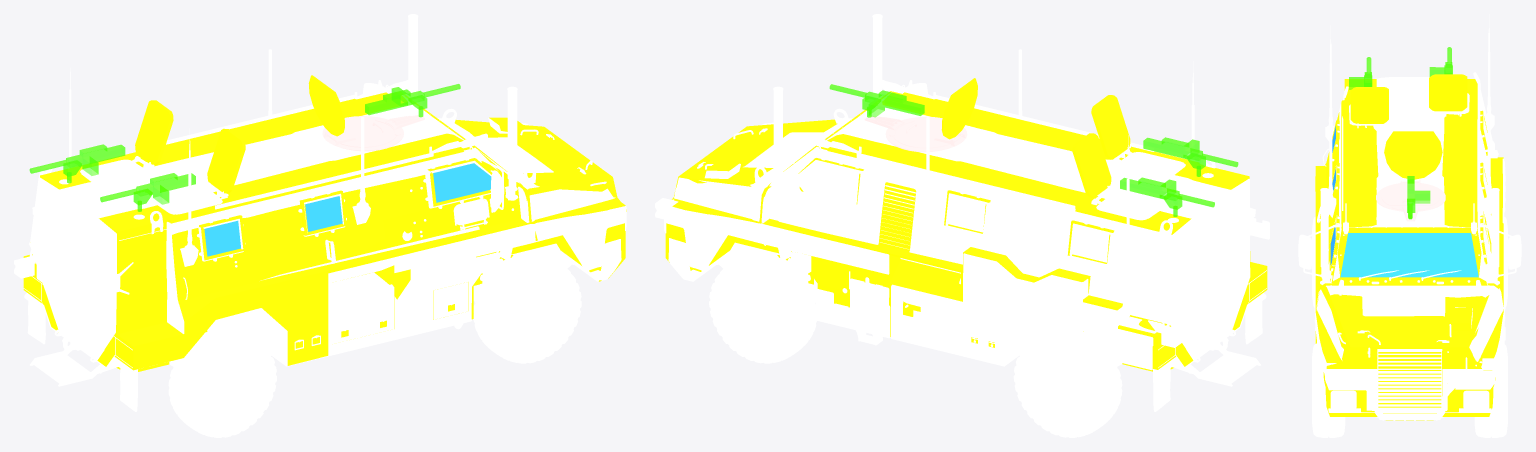
File: PMV.gltf
3 renders of one model, left to right at view 1: azimuth 30°, elevation 25°; view 2: azimuth 150°, elevation 25°; view 3: azimuth 270°, elevation 25°, orthographic. The views are drawn at different scales.
Visible parts, largest first — view 1: 16, PMV_col, 16_1, PMV_col_1, 16_4, PMV_hatch_rear_left_col_135, PMV_hatch_rear_left_col2_138, M240_Loaders_Turret_Weapon_Col5_126, M240_Loaders_Turret_Weapon_Col6_129, PMV_turret_hatch_col_141, M240_Loaders_Turret_Weapon_Col4_123; view 2: 16, 16_1, PMV_col, 16_3, 16_4, PMV_hatch_rear_left_col2_138, PMV_hatch_rear_left_col_135, M240_Loaders_Turret_Weapon_Col6_129, PMV_turret_hatch_col_141, M240_Loaders_Turret_Weapon_Col4_123, M240_Loaders_Turret_Weapon_Col5_126; view 3: PMV_col, 16, 16_1, PMV_col_1, PMV_turret_hatch_col_141, 16_4, PMV_hatch_rear_left_col_135, PMV_hatch_rear_left_col2_138, M240_Loaders_Turret_Weapon_Col4_123, M240_Loaders_Turret_Weapon_Col6_129, M240_Loaders_Turret_Weapon_Col5_126.
Boxes of the visible parts, x1,y1,x2,y2 form: 16: (15,14,626,366); PMV_col: (23,92,626,371); 16_1: (14,239,621,437); PMV_col_1: (204,163,491,256); 16_4: (322,115,424,151); PMV_hatch_rear_left_col_135: (135,100,173,165); PMV_hatch_rear_left_col2_138: (207,128,245,193); M240_Loaders_Turret_Weapon_Col5_126: (29,144,125,183); M240_Loaders_Turret_Weapon_Col6_129: (100,173,195,211); PMV_turret_hatch_col_141: (308,75,344,136); M240_Loaders_Turret_Weapon_Col4_123: (365,84,460,117); 16: (655,14,1269,370); 16_1: (668,238,1266,437); PMV_col: (665,91,1267,371); 16_3: (799,163,1109,262); 16_4: (864,116,967,152); PMV_hatch_rear_left_col2_138: (1091,95,1130,159); PMV_hatch_rear_left_col_135: (1072,133,1111,197); M240_Loaders_Turret_Weapon_Col6_129: (1143,137,1238,176); PMV_turret_hatch_col_141: (941,78,977,139); M240_Loaders_Turret_Weapon_Col4_123: (829,84,924,117); M240_Loaders_Turret_Weapon_Col5_126: (1120,177,1214,216); PMV_col: (1315,79,1503,420); 16: (1298,14,1521,410); 16_1: (1312,150,1507,437); PMV_col_1: (1330,126,1478,277); PMV_turret_hatch_col_141: (1384,131,1442,179); 16_4: (1376,179,1445,221); PMV_hatch_rear_left_col_135: (1429,74,1467,111); PMV_hatch_rear_left_col2_138: (1350,87,1388,123); M240_Loaders_Turret_Weapon_Col4_123: (1407,176,1430,219); M240_Loaders_Turret_Weapon_Col6_129: (1349,57,1372,89); M240_Loaders_Turret_Weapon_Col5_126: (1429,47,1452,76).
Bounding box in the file's own units: 7.13 × 3.91 × 2.97.
